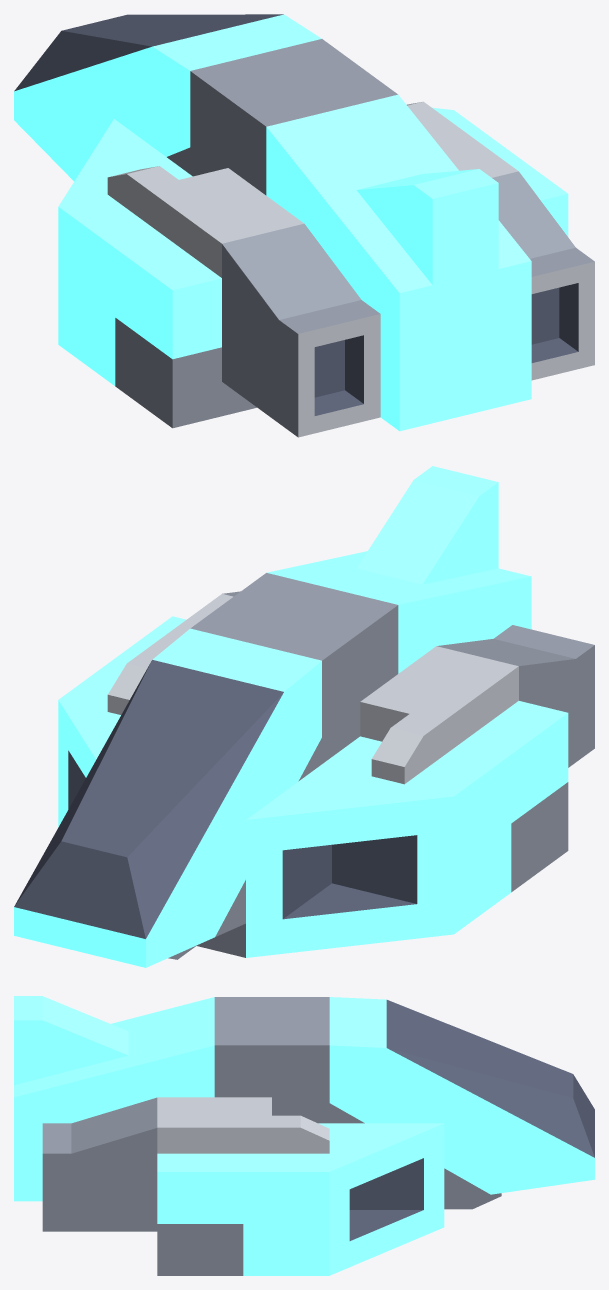
Rendered from craft_racer.glb.
3 views of the same model, one above another, from view 1: azimuth 30°, elevation 25°; view 2: azimuth 150°, elevation 25°; view 3: azimuth 270°, elevation 25° (orthographic). The views are drawn at different scales.
Visible parts, largest first — view 1: craft_racer; view 2: craft_racer; view 3: craft_racer.
Part boxes in pixels (bbox=[...]): craft_racer: bbox=[14, 14, 594, 437]; craft_racer: bbox=[14, 466, 594, 967]; craft_racer: bbox=[14, 996, 594, 1275].
Bounding box in the file's own units: 1.2 × 0.75 × 2.03.
